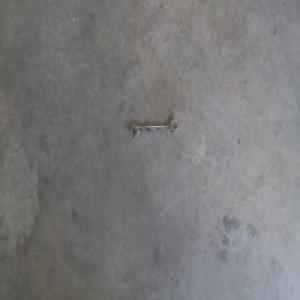Wrench: (129, 118, 179, 139)
